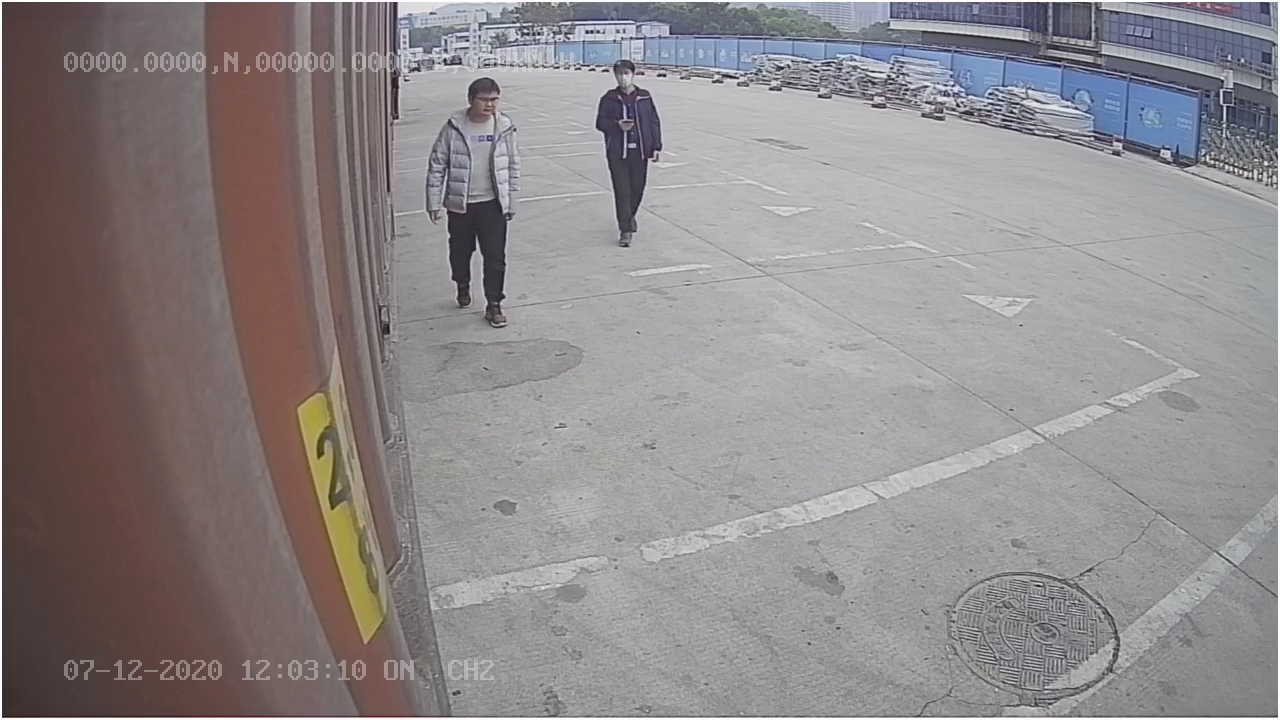person: (427, 73, 526, 329)
